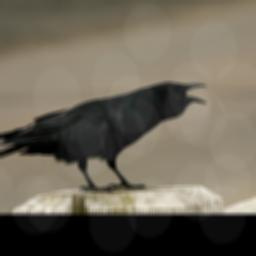Crow: (0, 82, 207, 194)
